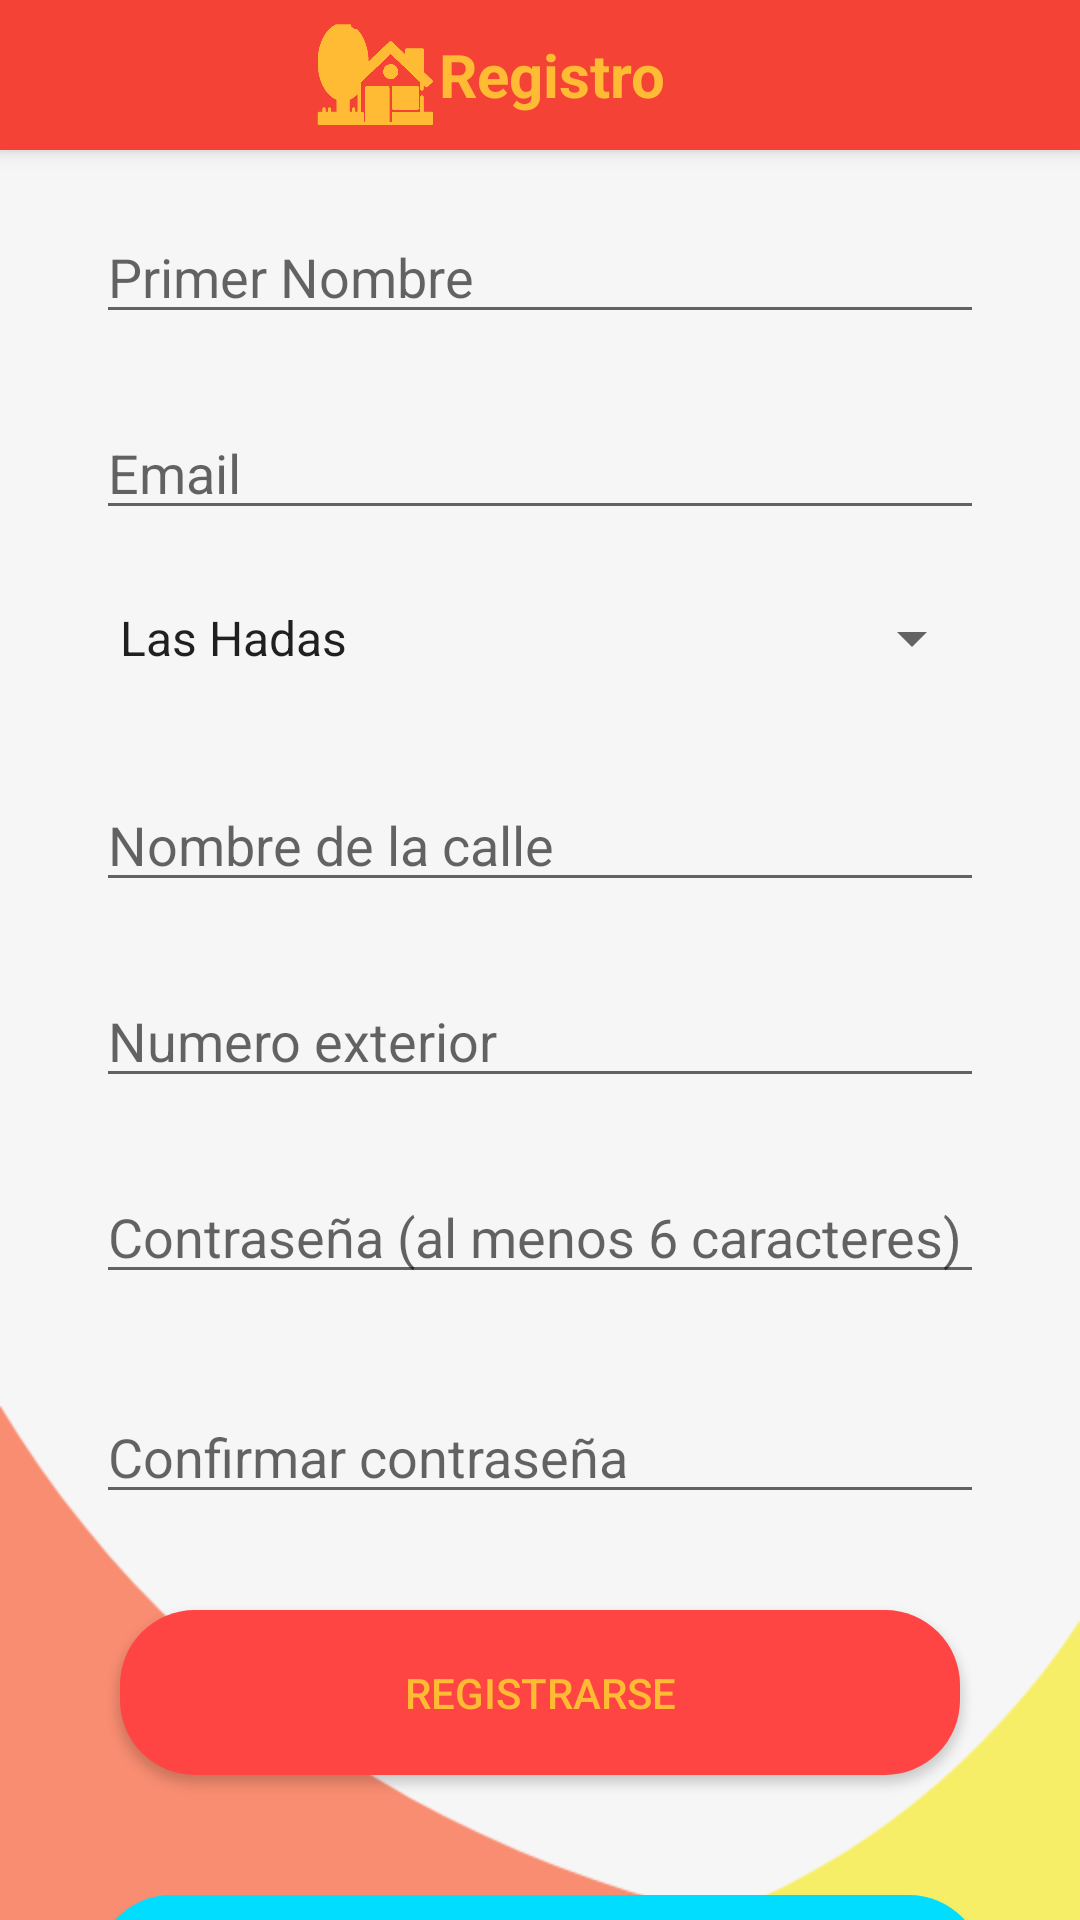

Where to tap for icons on this 1080 x 1920 app screen, as [x,y]:
casa: [375,74]
